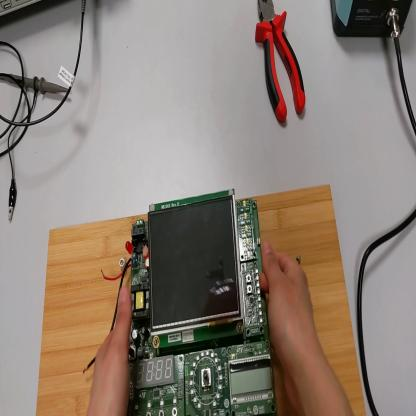hand: (259, 238, 320, 392), (87, 283, 135, 413)
low voltage board: (85, 188, 279, 416)
oscilloscope: (2, 1, 38, 20)
oscilloscope probe tip: (2, 71, 71, 97)
pliers: (255, 1, 308, 127)
welder station: (331, 2, 413, 39)
working area: (36, 182, 366, 415)
